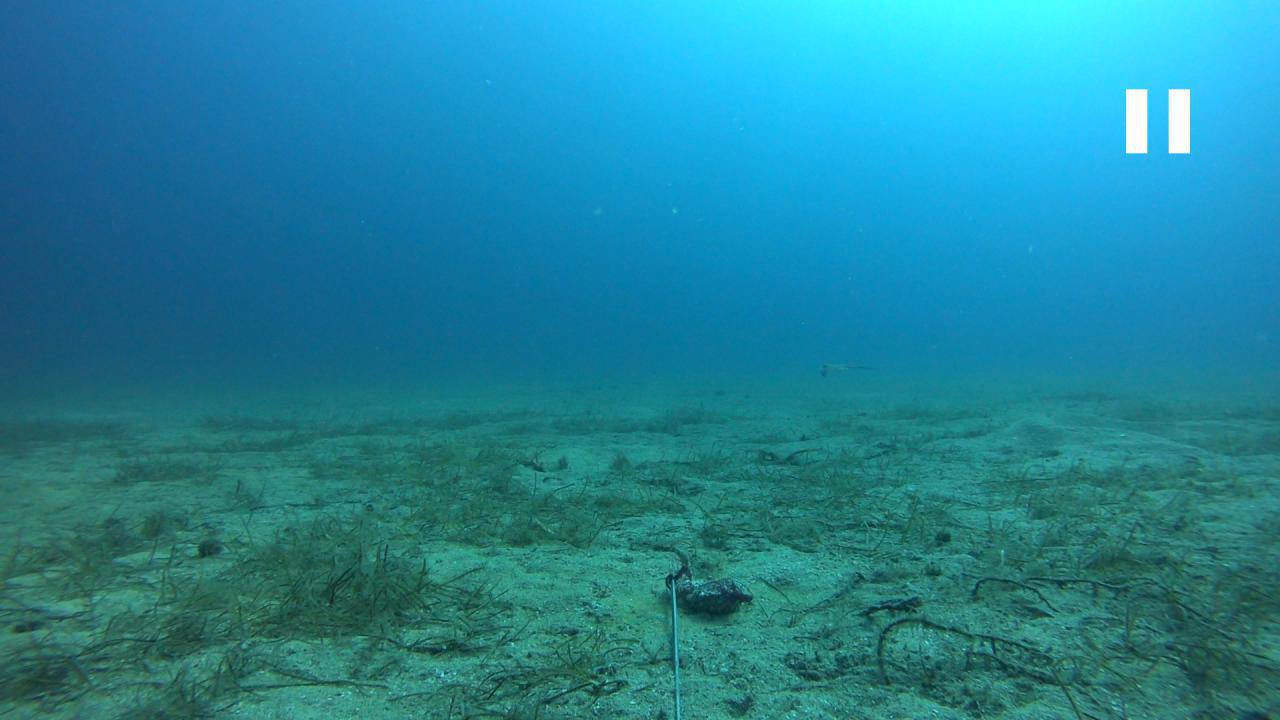dasyatis: (818, 361, 880, 376)
